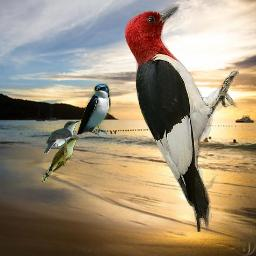Cuckoo: (42, 137, 79, 182), (43, 120, 81, 154)
Swallow: (77, 83, 111, 137)
Woodpecker: (122, 2, 239, 232)
